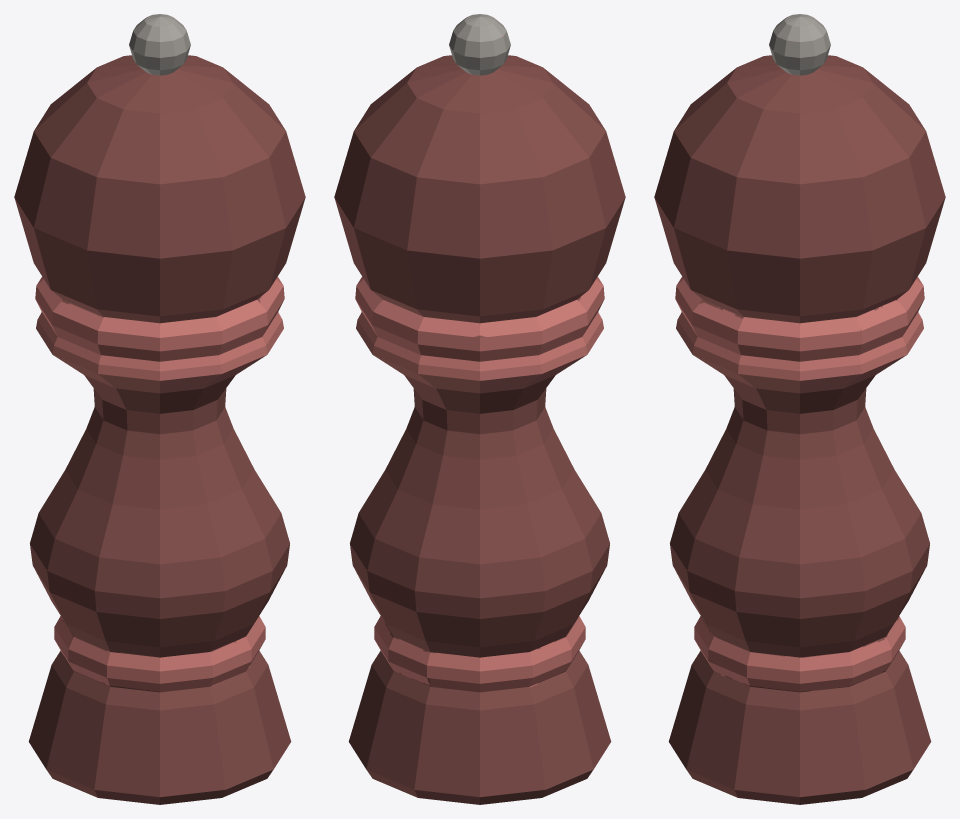
File: 胡椒研磨2_塗色完成.fbx
3 views of the same model, side by side, from view 1: azimuth 30°, elevation 25°; view 2: azimuth 150°, elevation 25°; view 3: azimuth 270°, elevation 25° (orthographic).
Parts seen in each view (by area): view 1: Circle.004; view 2: Circle.004; view 3: Circle.004.
Part boxes in pixels (x1=…): Circle.004: x1=14, y1=14, x2=305, y2=804; Circle.004: x1=334, y1=14, x2=625, y2=804; Circle.004: x1=654, y1=14, x2=945, y2=804.
Size of the model in its own units: 36.21 by 101 by 36.21.
